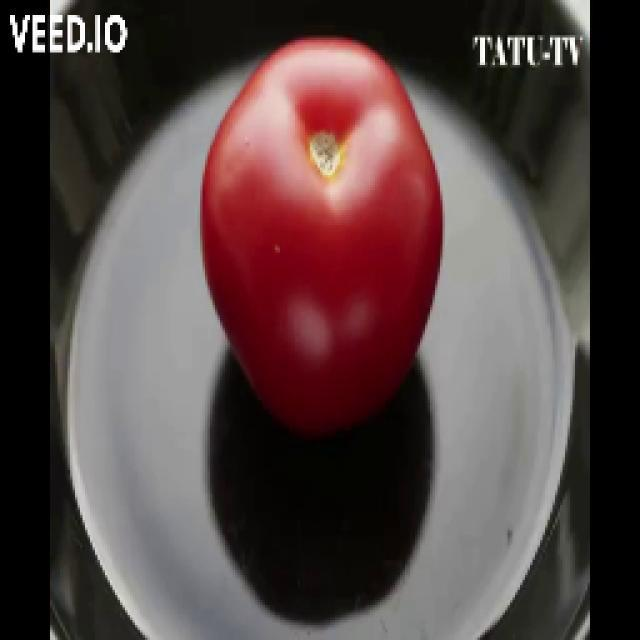tomato: (198, 37, 445, 443)
